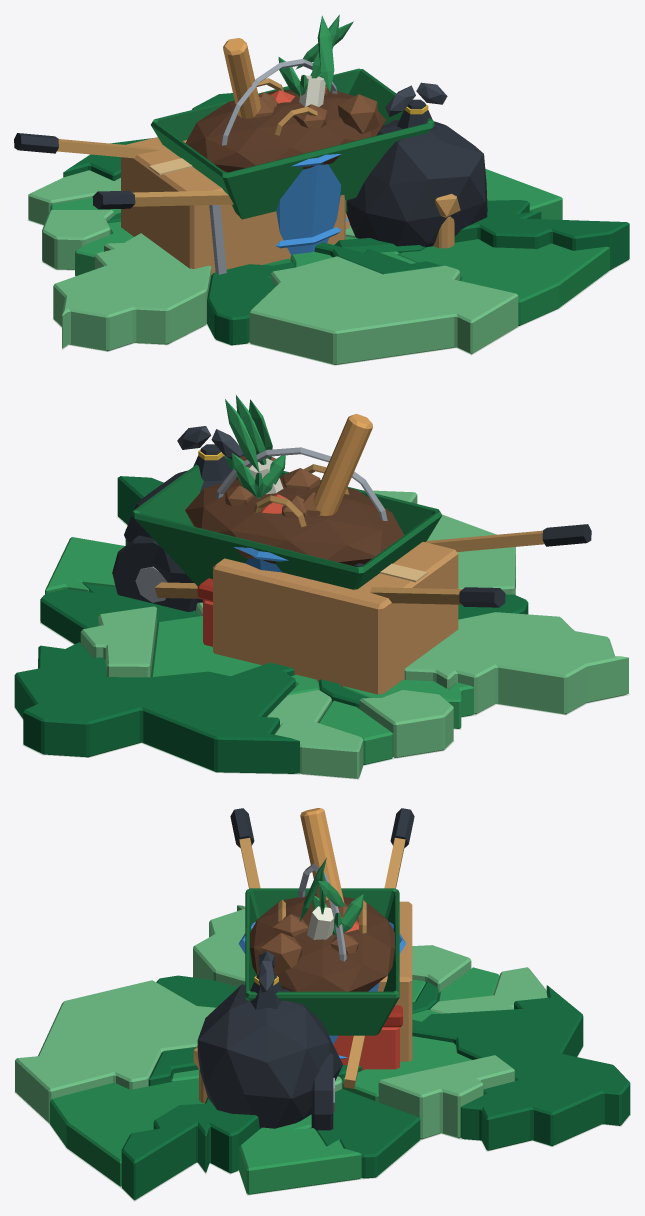
Rendered from services.glb.
3 renders of one model, top to bottom at view 1: azimuth 30°, elevation 25°; view 2: azimuth 150°, elevation 25°; view 3: azimuth 270°, elevation 25°, orthographic. The views are drawn at different scales.
Parts seen in each view (by area): view 1: Commune · Uccle.001, Commune · Anderlecht.001, Sac.006, Carton.005, Benne.002, Commune · Watermael-Boitsfort.001, Terre.001, Commune · Auderghem.001, Commune · Forest.001, Seau vide.003, Commune · Berchem-Sainte-Agathe.001, Commune · Bruxelles.001 (+20 smaller); view 2: Commune · Bruxelles.001, Carton.005, Commune · Anderlecht.001, Benne.002, Terre.001, Commune · Jette.001, Commune · Berchem-Sainte-Agathe.001, Commune · Evere.001, Commune · Woluwe-Saint-Lambert.001, Commune · Schaerbeek.001, Commune · Uccle.001, Commune · Woluwe-Saint-Pierre.001 (+20 smaller); view 3: Commune · Bruxelles.001, Commune · Uccle.001, Sac.006, Commune · Auderghem.001, Commune · Watermael-Boitsfort.001, Terre.001, Benne.002, Commune · Woluwe-Saint-Pierre.001, Commune · Evere.001, Commune · Woluwe-Saint-Lambert.001, Commune · Anderlecht.001, Commune · Schaerbeek.001 (+18 smaller).
Boxes of the visible parts, left/top/right/bottom form: Commune · Uccle.001: left=249, top=256, right=518, bottom=364; Commune · Anderlecht.001: left=53, top=233, right=211, bottom=351; Sac.006: left=346, top=120, right=487, bottom=247; Carton.005: left=121, top=137, right=345, bottom=274; Benne.002: left=151, top=68, right=434, bottom=219; Commune · Watermael-Boitsfort.001: left=398, top=239, right=609, bottom=325; Terre.001: left=185, top=89, right=385, bottom=172; Commune · Auderghem.001: left=454, top=200, right=629, bottom=269; Commune · Forest.001: left=207, top=262, right=294, bottom=345; Seau vide.003: left=276, top=164, right=340, bottom=255; Commune · Berchem-Sainte-Agathe.001: left=42, top=210, right=113, bottom=269; Commune · Bruxelles.001: left=63, top=93, right=441, bottom=274; Commune · Bruxelles.001: left=14, top=642, right=299, bottom=773; Carton.005: left=213, top=542, right=458, bottom=694; Commune · Anderlecht.001: left=404, top=612, right=628, bottom=714; Benne.002: left=132, top=456, right=442, bottom=589; Terre.001: left=185, top=476, right=403, bottom=565; Commune · Jette.001: left=267, top=690, right=363, bottom=778; Commune · Berchem-Sainte-Agathe.001: left=359, top=690, right=453, bottom=757; Commune · Evere.001: left=80, top=606, right=156, bottom=677; Commune · Woluwe-Saint-Lambert.001: left=40, top=584, right=198, bottom=644; Commune · Schaerbeek.001: left=150, top=616, right=261, bottom=677; Commune · Uccle.001: left=363, top=490, right=515, bottom=594; Commune · Woluwe-Saint-Pierre.001: left=45, top=537, right=124, bottom=593; Commune · Bruxelles.001: left=148, top=985, right=630, bottom=1150; Commune · Uccle.001: left=15, top=980, right=216, bottom=1123; Sac.006: left=197, top=984, right=342, bottom=1128; Commune · Auderghem.001: left=121, top=1097, right=259, bottom=1200; Commune · Watermael-Boitsfort.001: left=50, top=1078, right=203, bottom=1186; Terre.001: left=250, top=893, right=395, bottom=991; Benne.002: left=245, top=888, right=399, bottom=1035; Commune · Woluwe-Saint-Pierre.001: left=239, top=1114, right=361, bottom=1194; Commune · Evere.001: left=378, top=1055, right=514, bottom=1139; Commune · Woluwe-Saint-Lambert.001: left=317, top=1089, right=420, bottom=1178; Commune · Anderlecht.001: left=193, top=905, right=245, bottom=987; Commune · Schaerbeek.001: left=342, top=1036, right=471, bottom=1102.
Bounding box in the file's own units: 2 × 0.8518 × 1.99.
